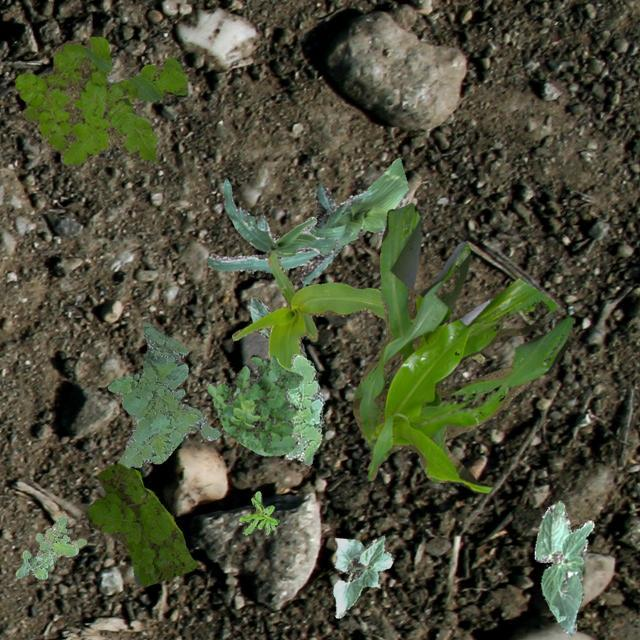crop: (352, 202, 572, 492), (230, 250, 484, 368), (206, 156, 406, 288), (220, 178, 336, 256), (534, 500, 592, 634), (332, 534, 392, 616), (248, 296, 304, 356)
weed: (13, 36, 186, 168), (106, 320, 220, 468), (86, 462, 196, 586), (206, 354, 302, 454), (15, 514, 86, 578), (284, 352, 324, 464), (238, 490, 278, 534)
